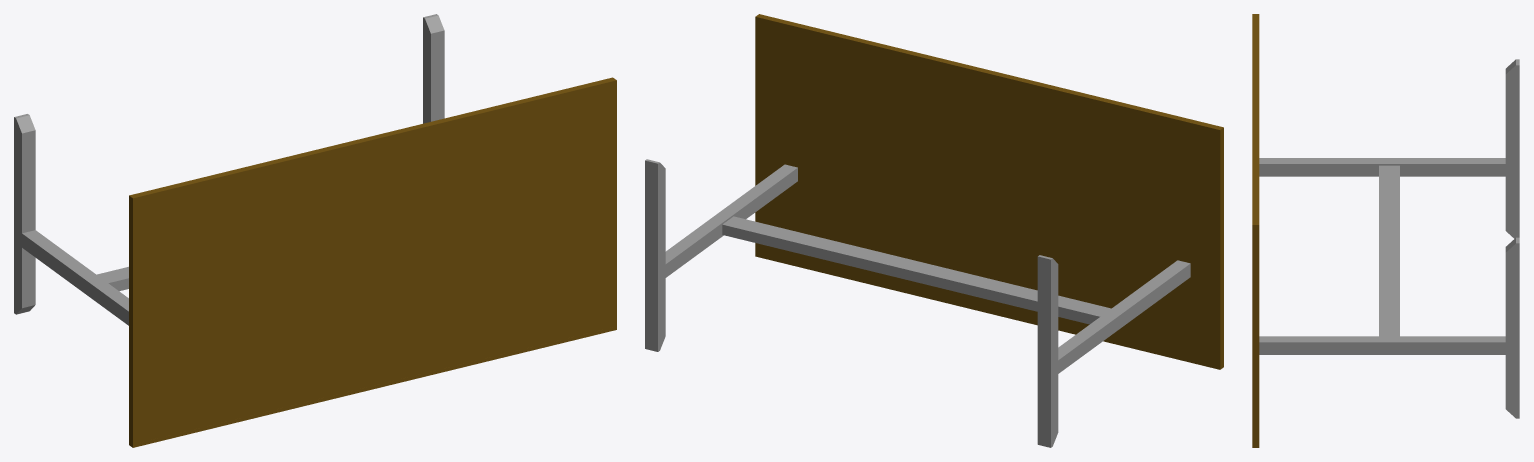
The model's file is computer tables v8.fbx.
3 views of the same model, side by side, from view 1: azimuth 30°, elevation 25°; view 2: azimuth 150°, elevation 25°; view 3: azimuth 270°, elevation 25° (orthographic). The views are drawn at different scales.
Parts seen in each view (by area): view 1: Body1 (×4); view 2: Body1 (×6); view 3: Body1 (×6).
Part boxes in pixels (bbox=[...]): Body1 (×4): bbox=[14, 14, 616, 447]; Body1 (×6): bbox=[645, 14, 1223, 447]; Body1 (×6): bbox=[1252, 14, 1519, 447].
Size of the model in its own units: 71 by 35 by 38.
